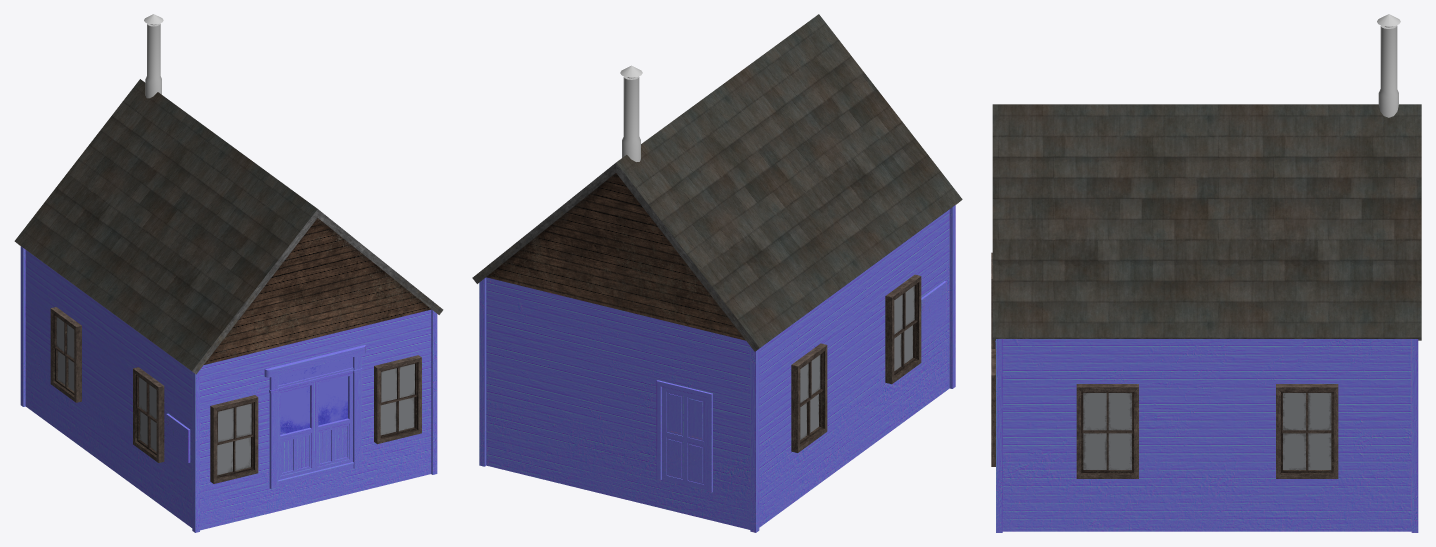
The model's file is RoofTop_Background10.fbx.
3 views of the same model, side by side, from view 1: azimuth 30°, elevation 25°; view 2: azimuth 150°, elevation 25°; view 3: azimuth 270°, elevation 25° (orthographic). The views are drawn at different scales.
Parts seen in each view (by area): view 1: t_002_br001_sf_1, t_002_b001_2_1, window_001_3, window_001_4, window_001_2, window_001_1, chimney_1_3, ad_006; view 2: t_002_br001_sf_1, t_002_b001_2_1, t002_door001, window_001_1, window_001_2, chimney_1_3, ad_006; view 3: t_002_br001_sf_1, t_002_b001_2_1, window_001_2__1_, window_001_1__1_, chimney_1_3, window_001_4.
Part boxes in pixels (<box>): t_002_br001_sf_1: <box>14,79,443,374</box>; t_002_b001_2_1: <box>20,246,437,532</box>; window_001_3: <box>210,395,258,483</box>; window_001_4: <box>374,355,421,444</box>; window_001_2: <box>50,307,81,402</box>; window_001_1: <box>133,367,164,462</box>; chimney_1_3: <box>144,14,163,98</box>; ad_006: <box>166,413,190,462</box>; t_002_br001_sf_1: <box>472,14,962,351</box>; t_002_b001_2_1: <box>479,205,955,532</box>; t002_door001: <box>656,380,712,492</box>; window_001_1: <box>885,274,921,384</box>; window_001_2: <box>791,343,827,452</box>; chimney_1_3: <box>620,65,642,161</box>; ad_006: <box>921,281,946,337</box>; t_002_br001_sf_1: <box>992,104,1421,340</box>; t_002_b001_2_1: <box>995,339,1418,532</box>; window_001_2__1_: <box>1276,384,1338,478</box>; window_001_1__1_: <box>1076,384,1138,478</box>; chimney_1_3: <box>1377,14,1400,117</box>; window_001_4: <box>991,349,995,466</box>.
Bounding box in the file's own units: 821 × 1155 × 1006.
